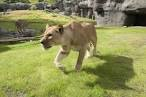lion: (40, 22, 101, 72)
